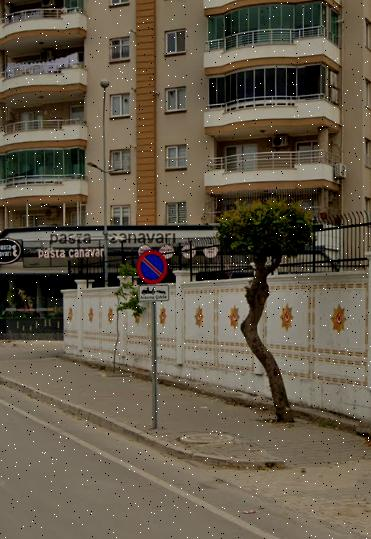nopark: (137, 250, 168, 285)
